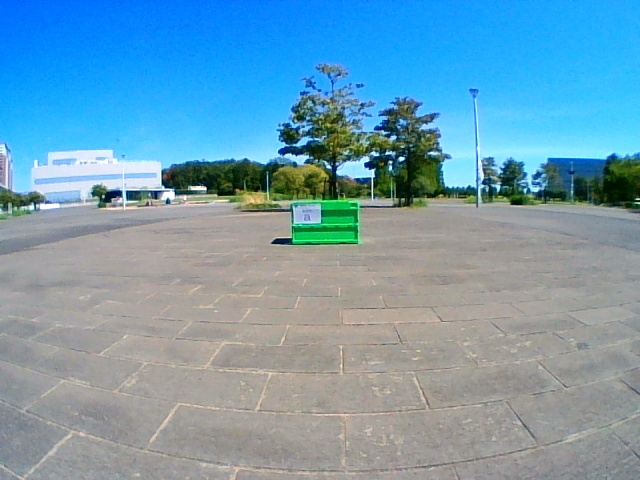green_box: (290, 200, 359, 243)
tag_a: (294, 205, 321, 222)
